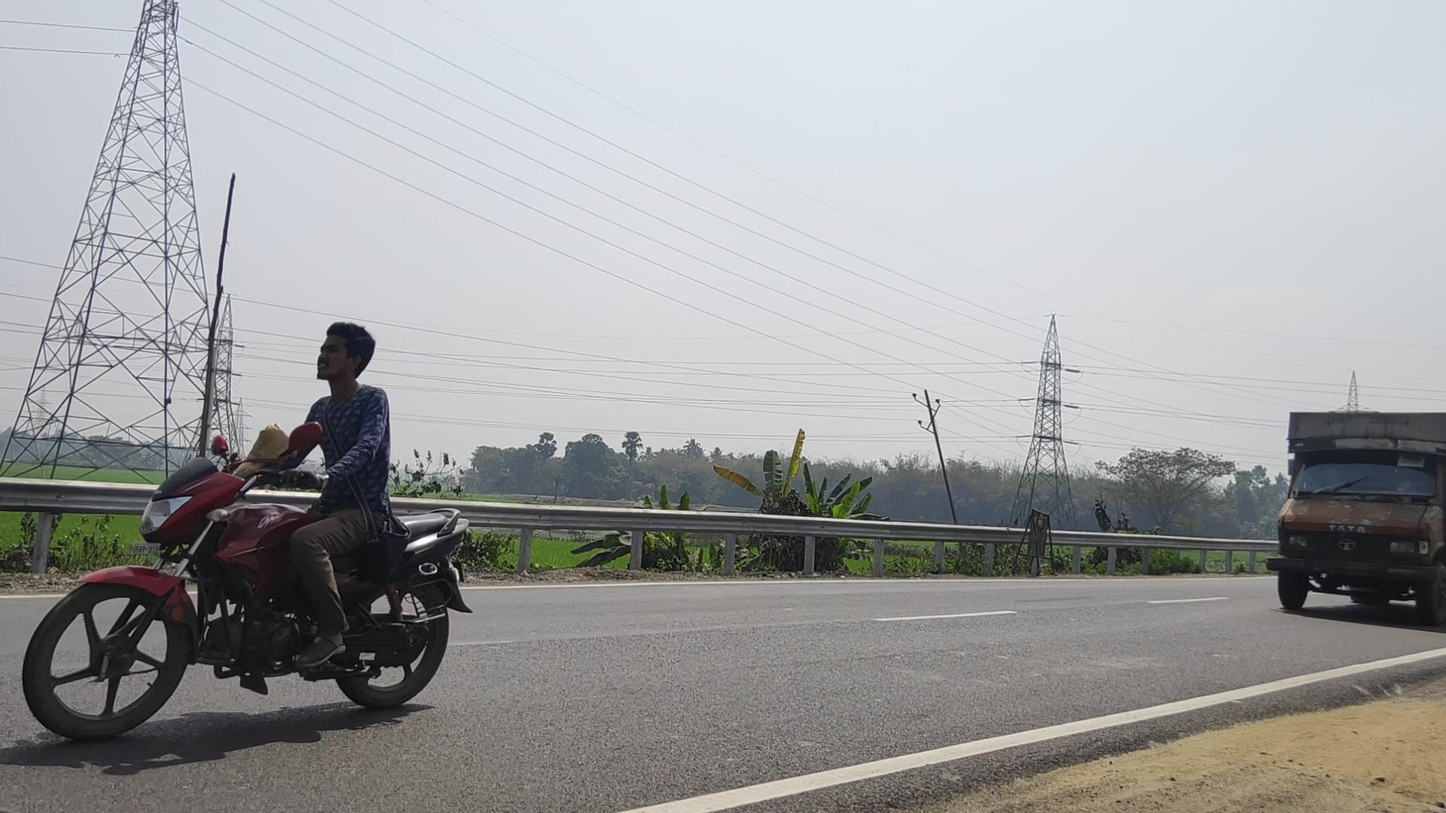bike: (22, 322, 470, 744)
truck: (1272, 409, 1446, 623)
